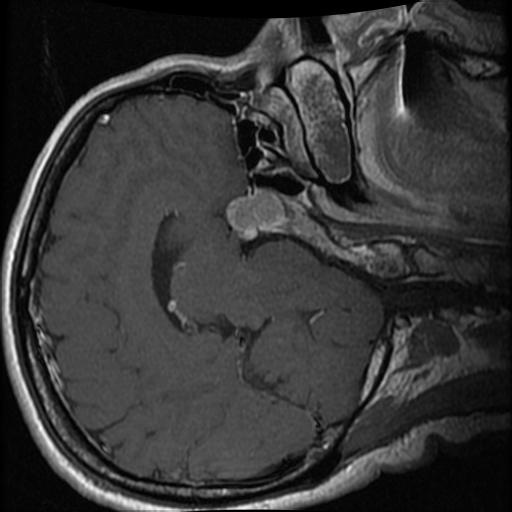pituitary tumour: (224, 189, 287, 241)
